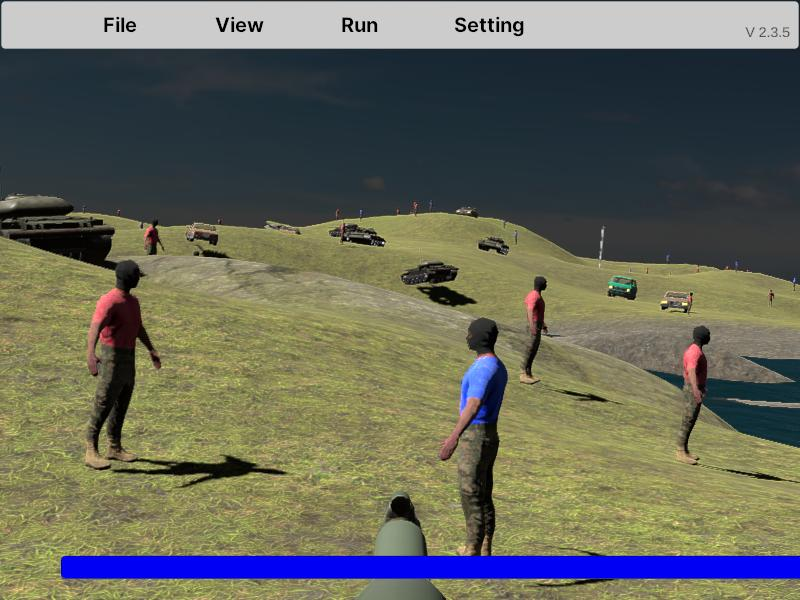Human: (440, 314, 507, 562), (85, 258, 161, 470), (674, 324, 710, 464), (520, 275, 548, 385)
Tank: (0, 192, 115, 265)
car: (185, 222, 219, 246), (608, 275, 638, 301)
